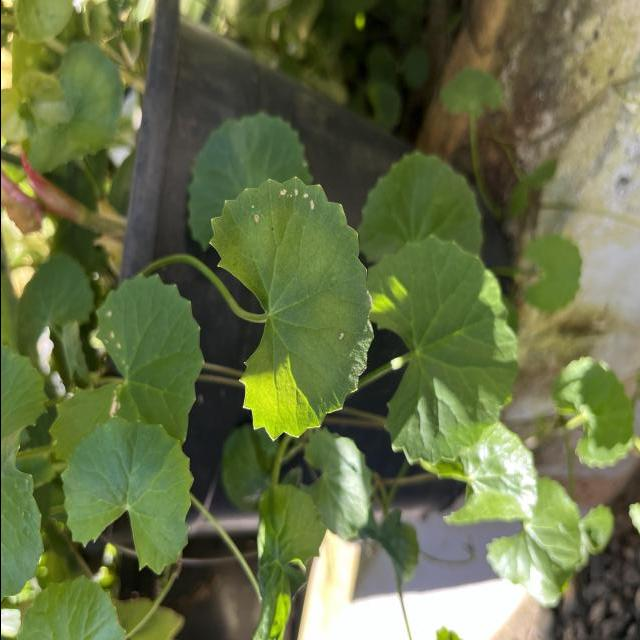Centella asiatica: (204, 173, 376, 444), (57, 413, 196, 577)
